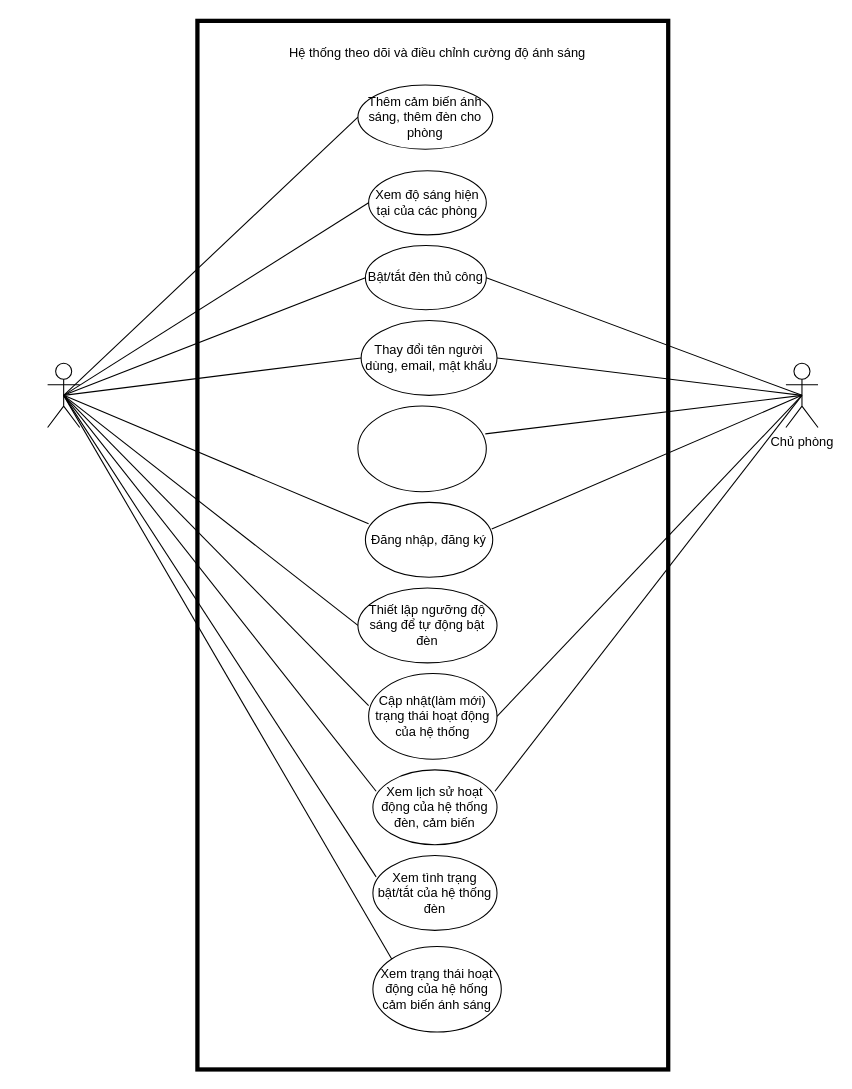
This 852x1089 diagram has some shape labels left out. The centre of each missing label's shape, as x and y in pixels:
Quản lý tòa nhà: (x=63, y=394)
Xem độ sáng của phòng mình sở hữu: (x=421, y=448)
